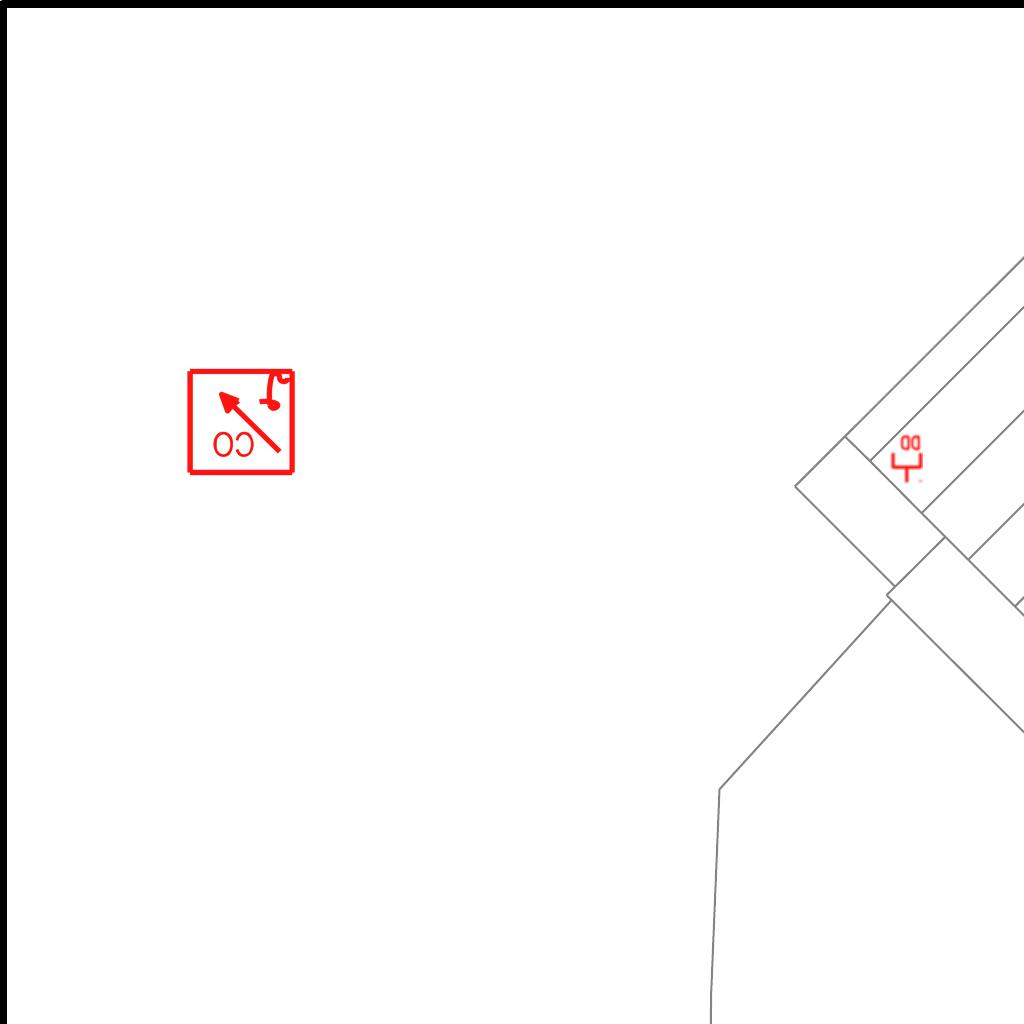Datenanschluss_zweifach: (889, 433, 923, 484)
ROA_Rauchmelder_optisch_mit_Signalgeber_(Sockelsirene): (184, 364, 297, 477)
